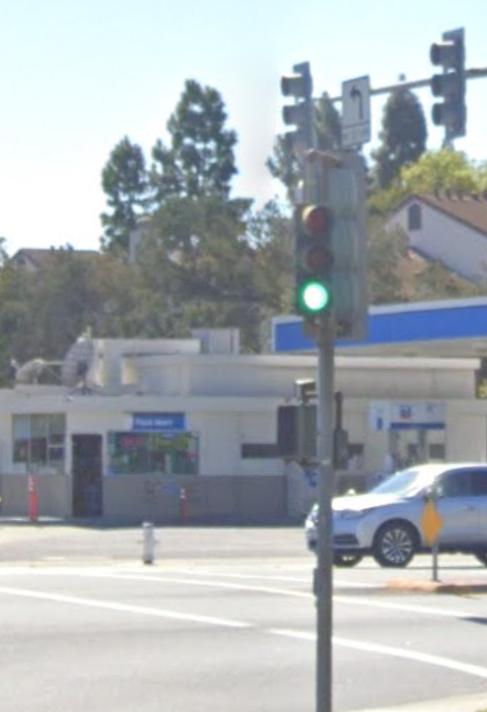green_light: (298, 204, 331, 315)
